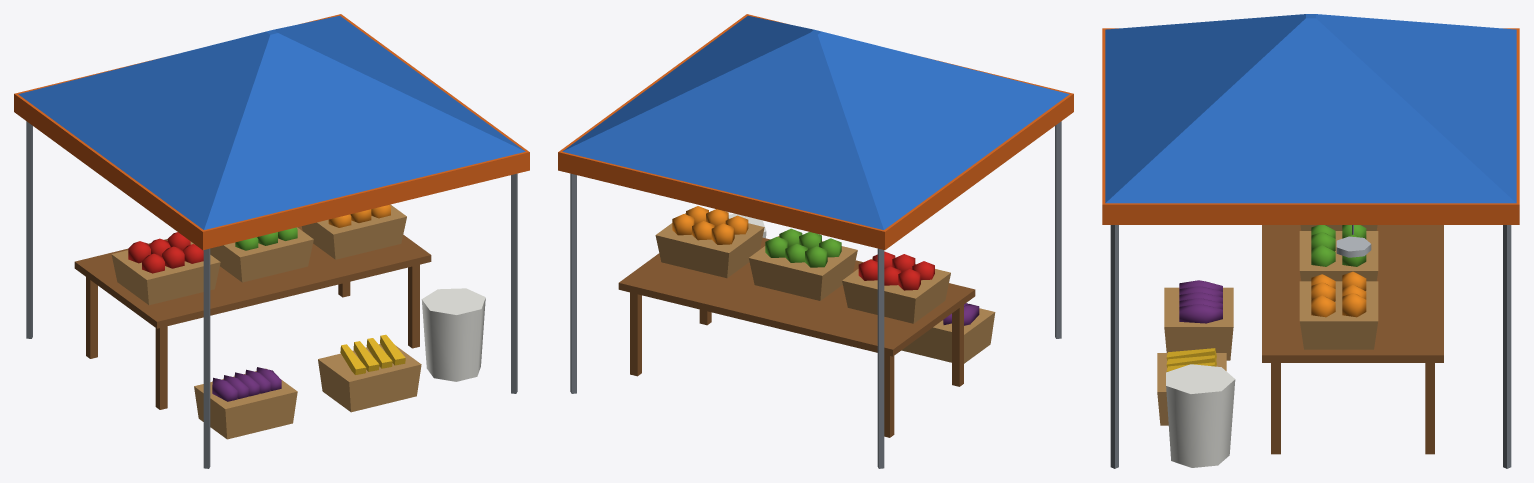
Rendered from tenda_pasar.glb.
The picture shows the model from 3 angles, left to right: view 1: azimuth 30°, elevation 25°; view 2: azimuth 150°, elevation 25°; view 3: azimuth 270°, elevation 25°; orthographic projection. The views are drawn at different scales.
Visible parts, largest first — view 1: body; view 2: body; view 3: body.
Boxes of the visible parts, <box> form: body: <box>14,14,529,468</box>; body: <box>558,14,1073,468</box>; body: <box>1102,14,1519,468</box>.
Bounding box in the file's own units: 2.98 × 2.9 × 2.98.
